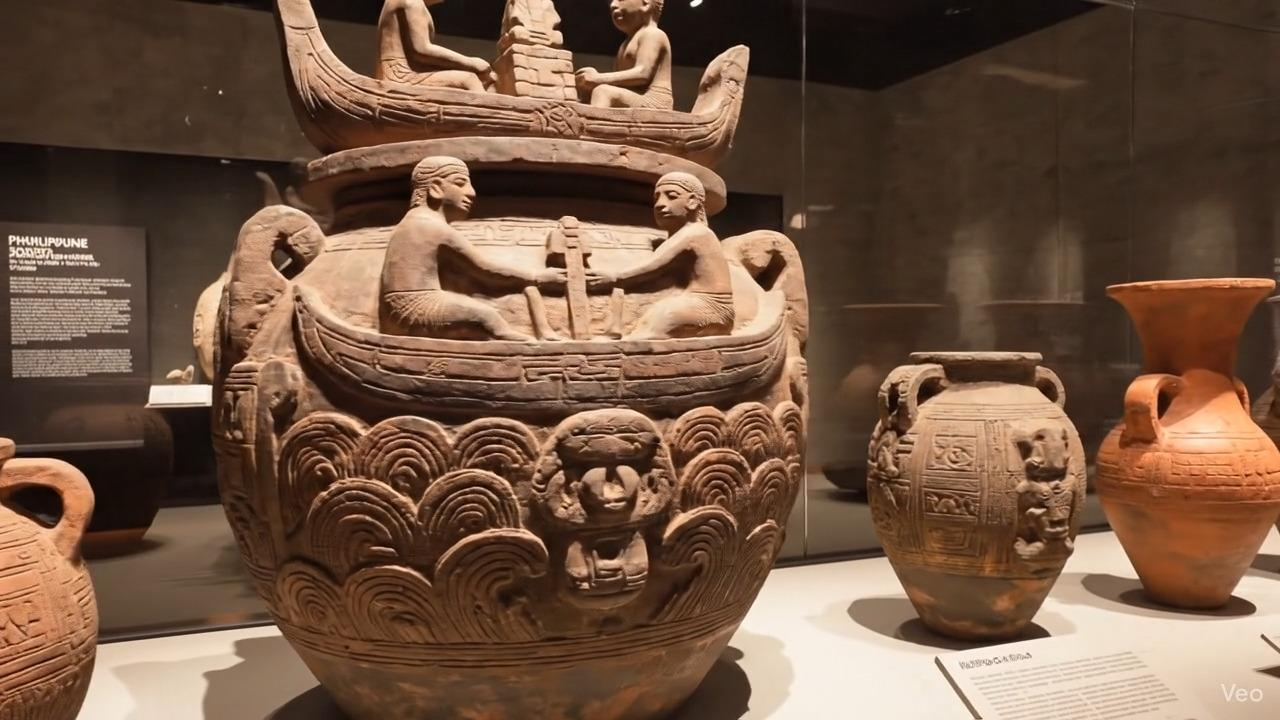manunggul_jar: (169, 0, 842, 720)
